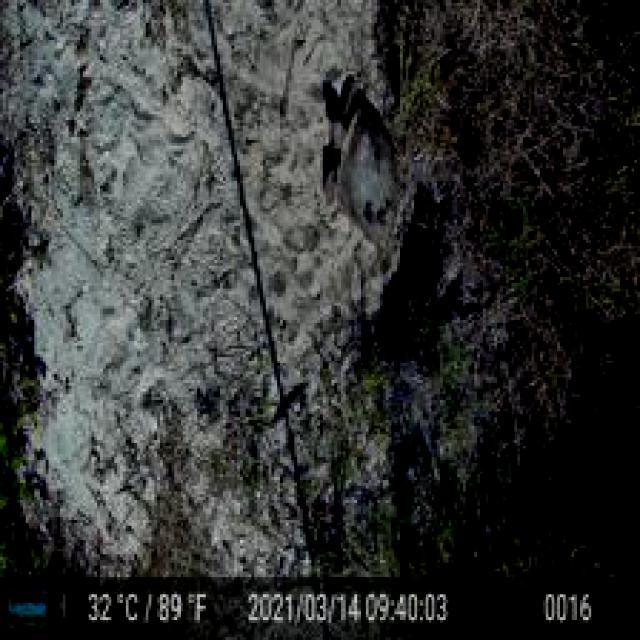tortoise: (317, 74, 405, 248)
